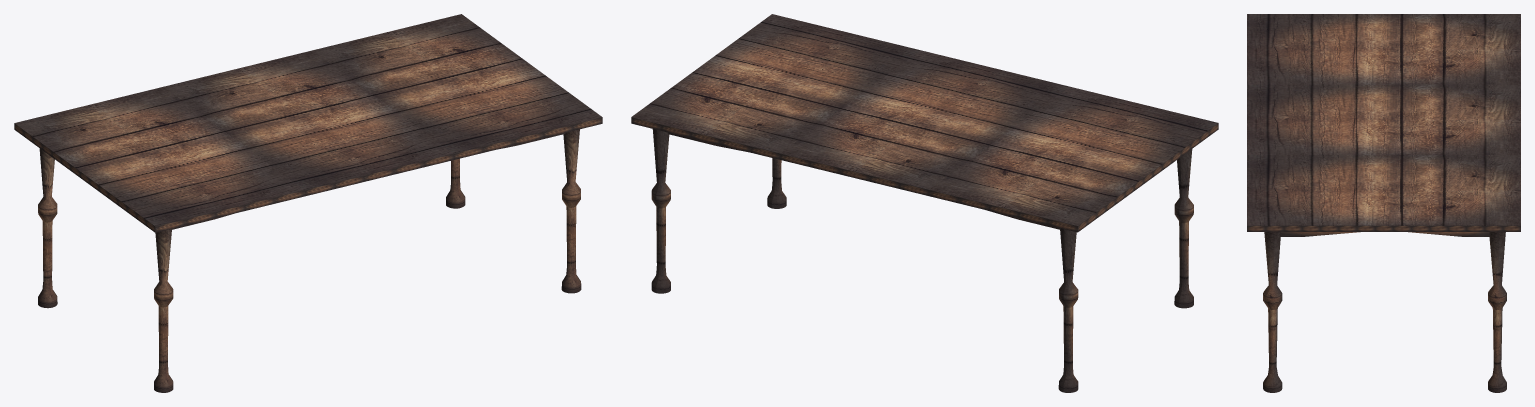
The picture shows the model from 3 angles, left to right: view 1: azimuth 30°, elevation 25°; view 2: azimuth 150°, elevation 25°; view 3: azimuth 270°, elevation 25°; orthographic projection. The views are drawn at different scales.
Parts seen in each view (by area): view 1: MyFKNTable_08 - Default_0; view 2: MyFKNTable_08 - Default_0; view 3: MyFKNTable_08 - Default_0.
Part boxes in pixels (x1=…): MyFKNTable_08 - Default_0: x1=14, y1=14, x2=602, y2=392; MyFKNTable_08 - Default_0: x1=631, y1=14, x2=1218, y2=392; MyFKNTable_08 - Default_0: x1=1247, y1=14, x2=1520, y2=392.
Size of the model in its own units: 2.4 by 0.9081 by 1.31.
1 material, 1 textured.
